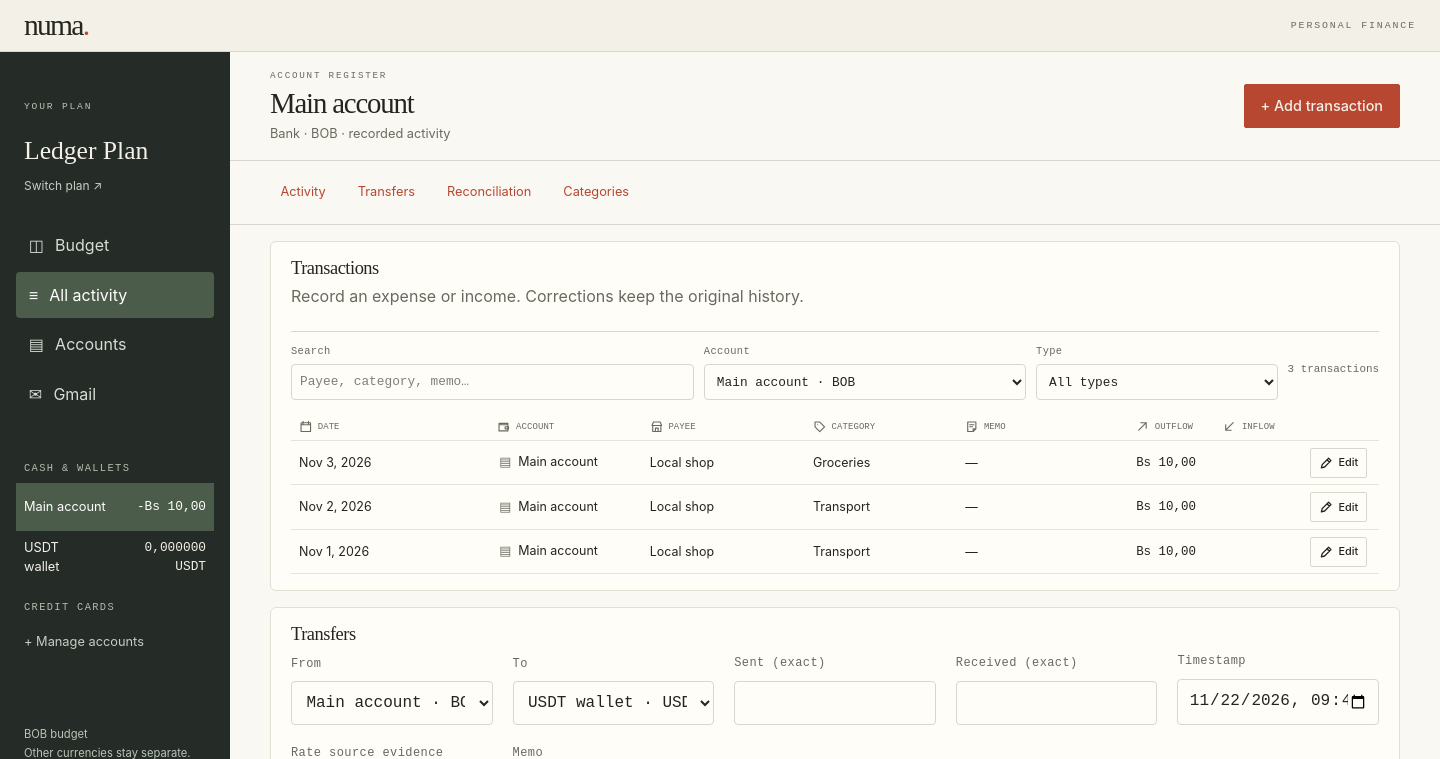
Test: minimal authoritative client flows › offers recent alternatives for the same payee and keeps an explicit category
Click the button "+ Add transaction": (1322,106) top-left (1244, 84), bottom-right (1400, 128)
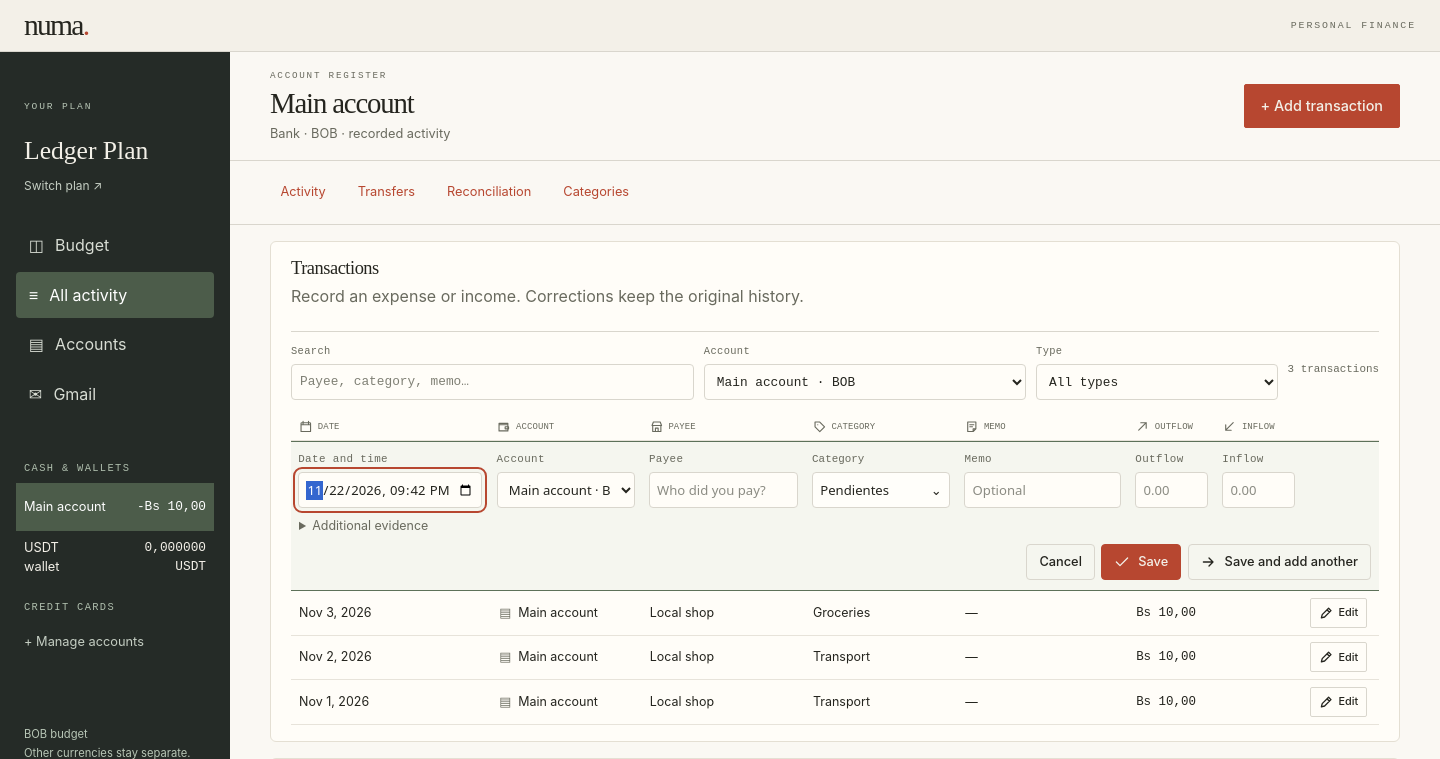
In the field labelled "Payee": (723,490) top-left (649, 472), bottom-right (798, 508), type "local shop"
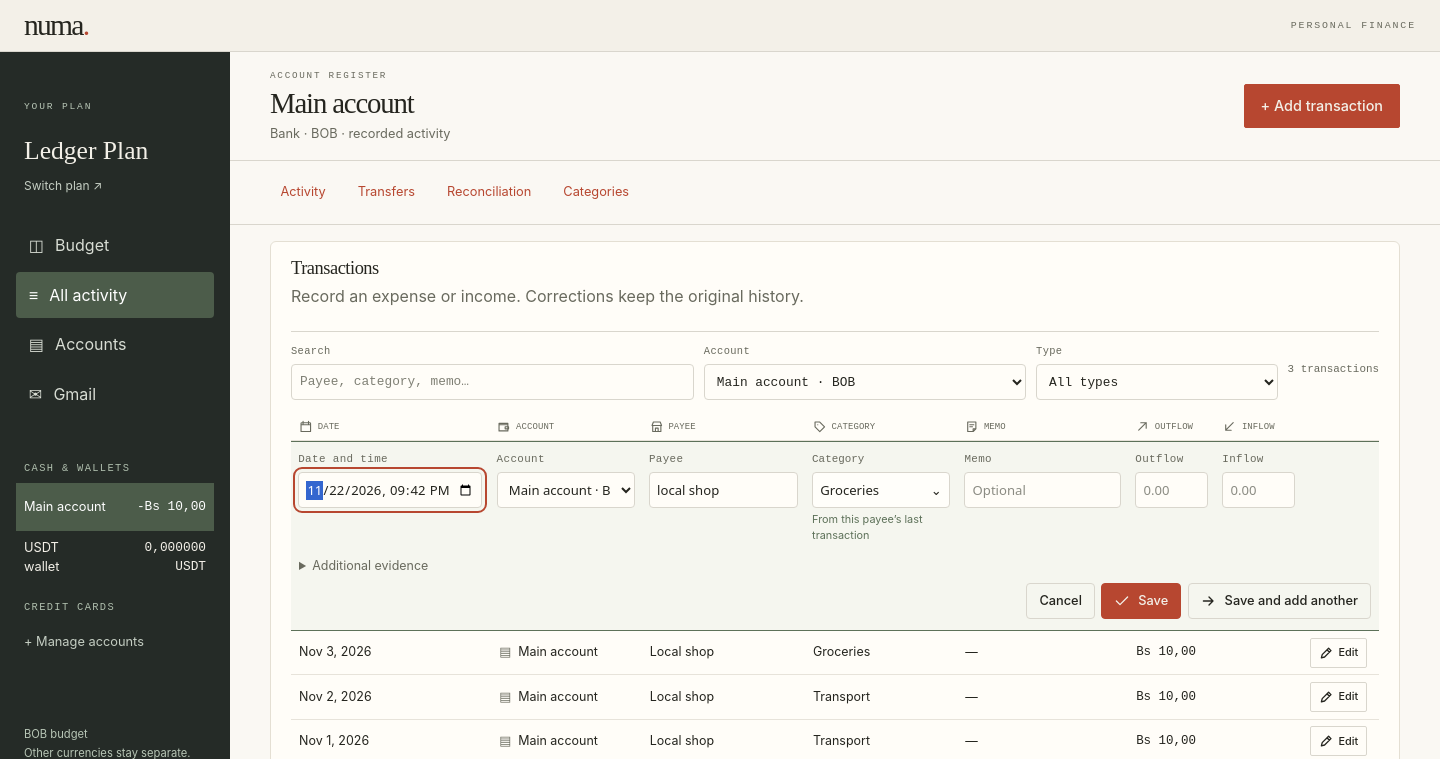
Click the button with aria-label "Category: Groceries": (881,490) top-left (812, 472), bottom-right (950, 508)
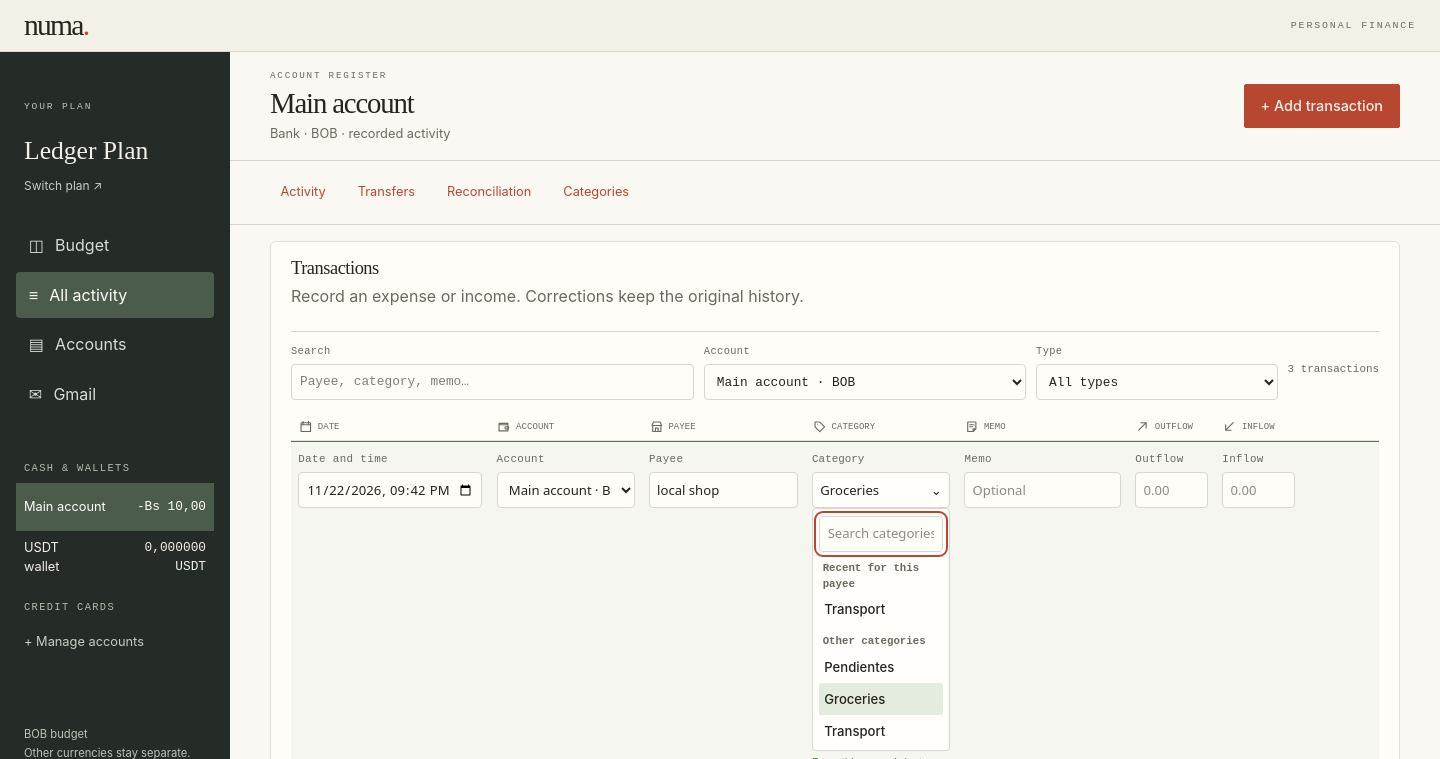
Click the button "Transport" below "Recent for this payee": (881,609) top-left (820, 593), bottom-right (943, 625)
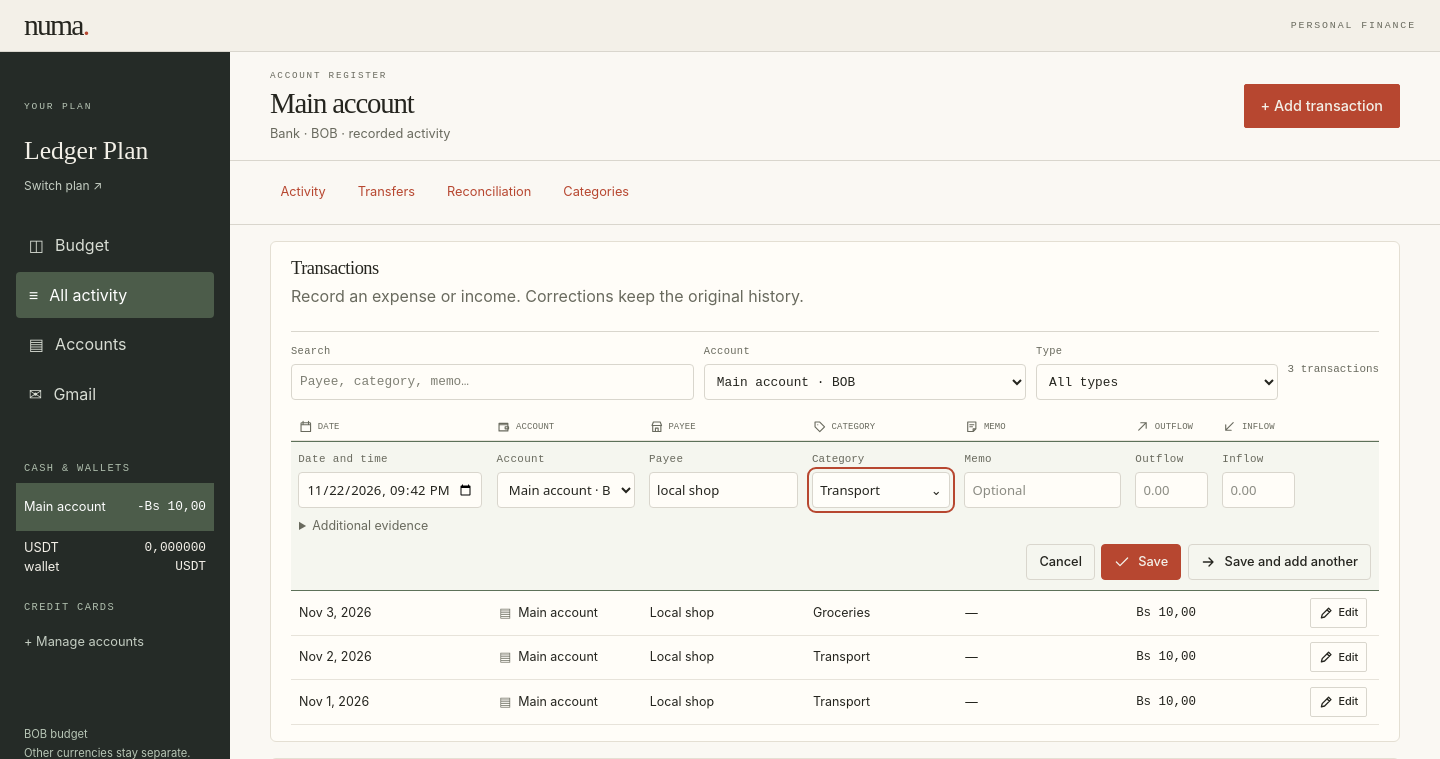
In the field labelled "Outflow": (1172,490) top-left (1135, 472), bottom-right (1208, 508), type "8.00"
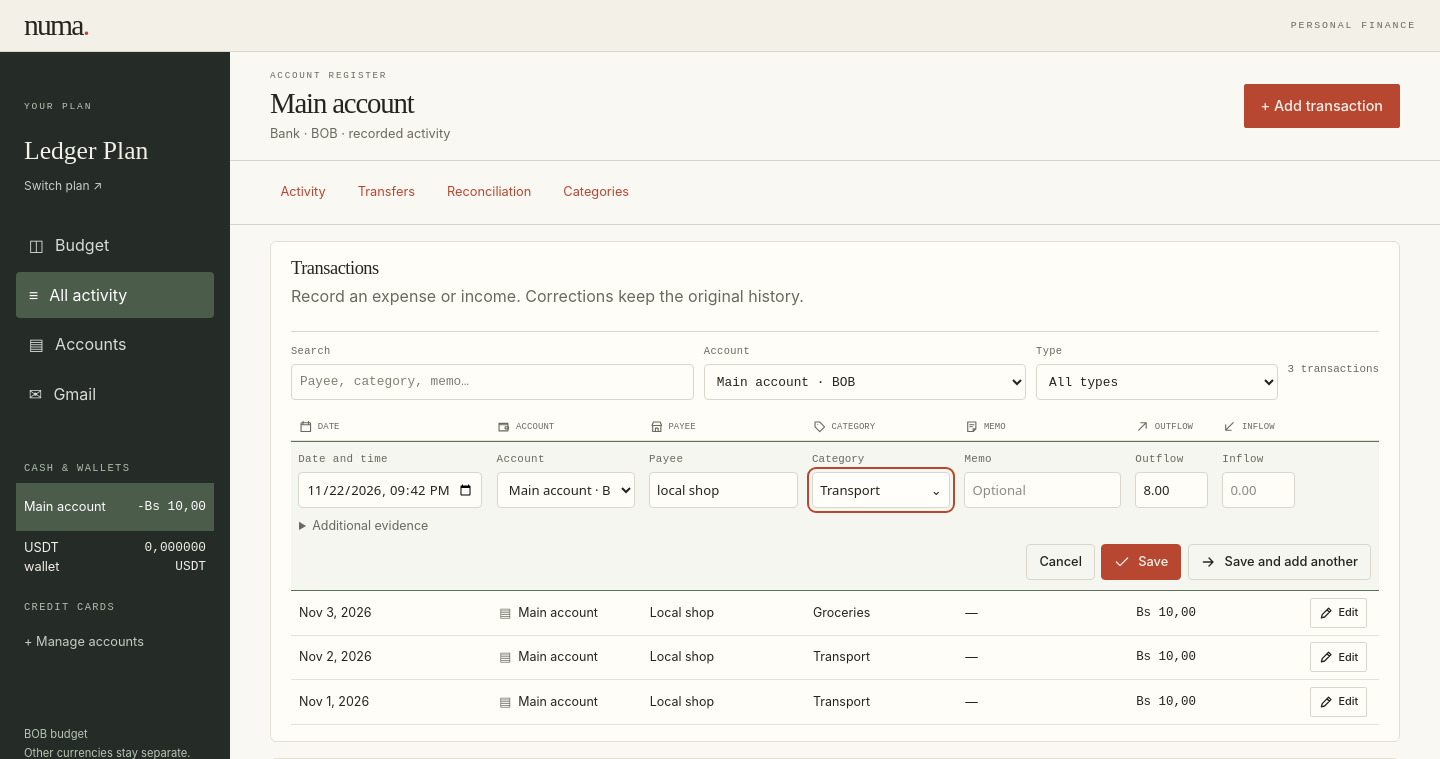
Click the button "Save": (1141,562) top-left (1101, 544), bottom-right (1181, 580)
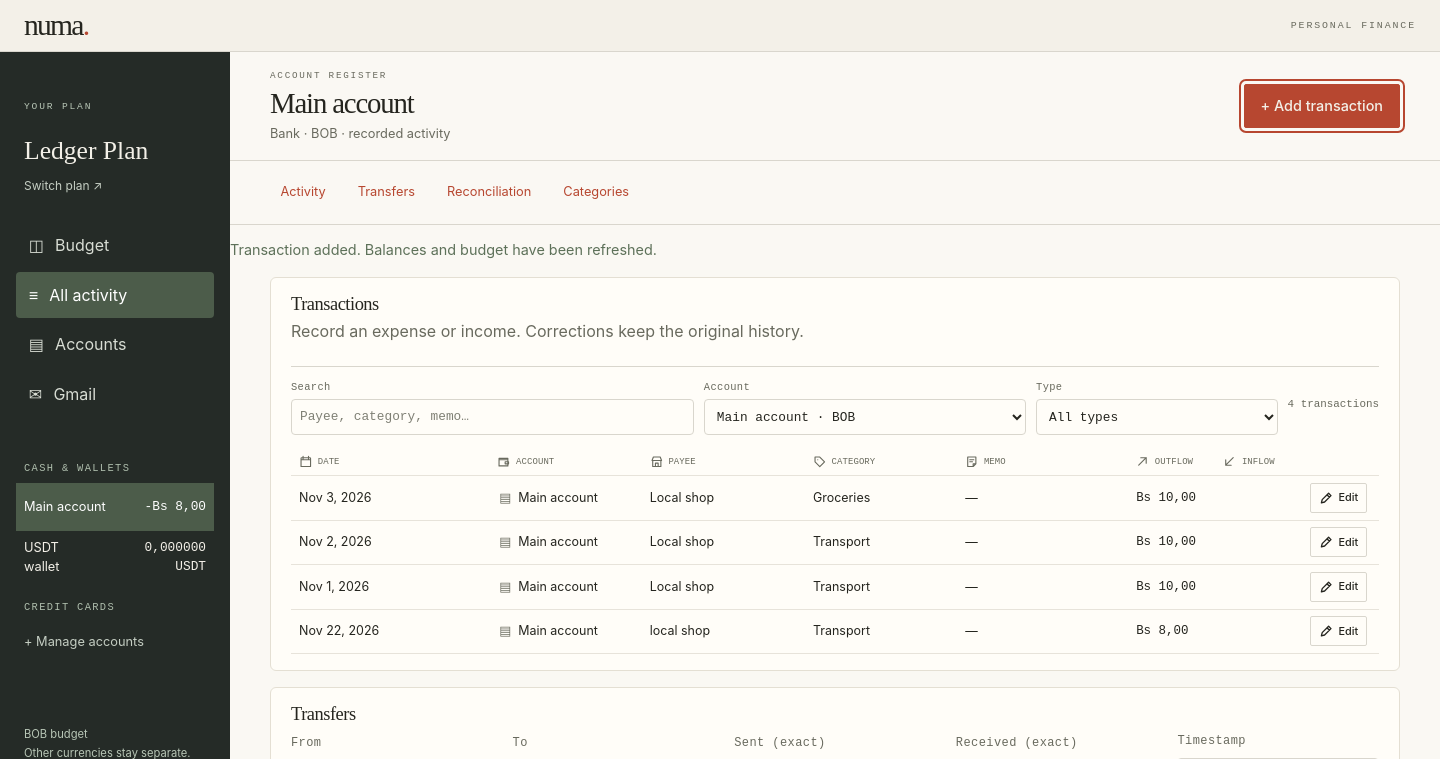
Expected: the text "Transaction added. Balances and budget have been refreshed." is shown, top-left (230, 241), bottom-right (657, 258)
